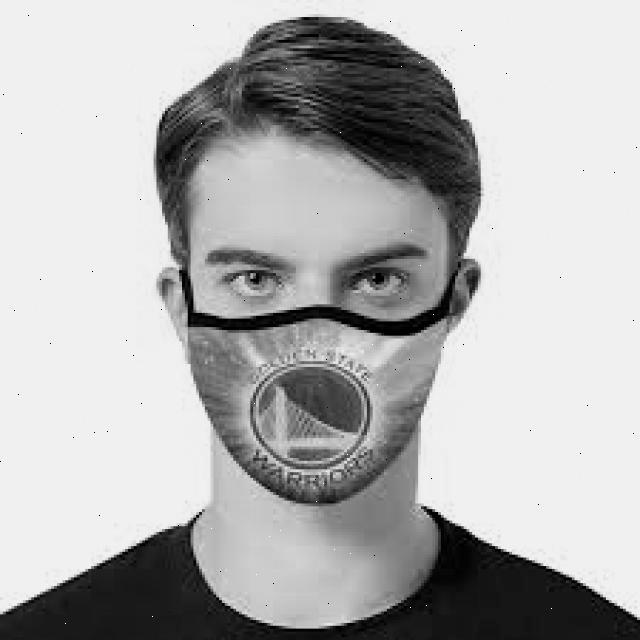fake: (156, 284, 472, 516)
real: (190, 146, 448, 517)
